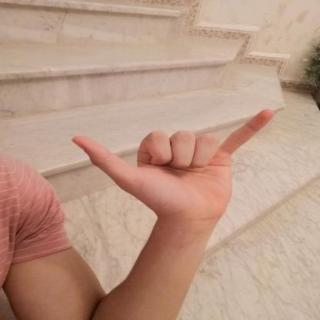YA: (56, 99, 288, 229)
